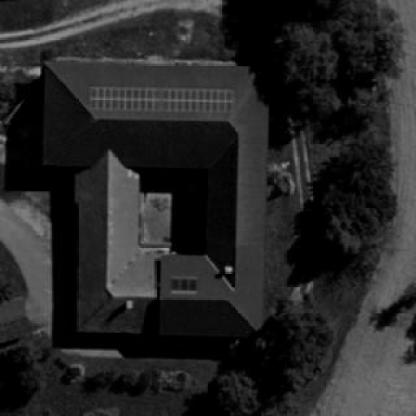solar-pv-panel: (90, 87, 233, 111), (170, 278, 197, 292)
